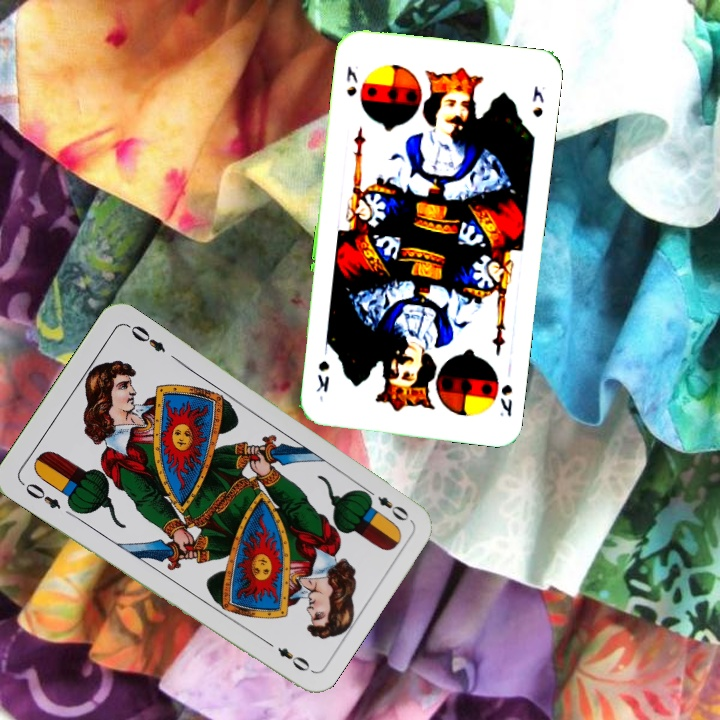EO: (360, 484, 412, 524), (17, 478, 64, 512)
SK: (496, 380, 515, 419), (342, 62, 360, 99)
